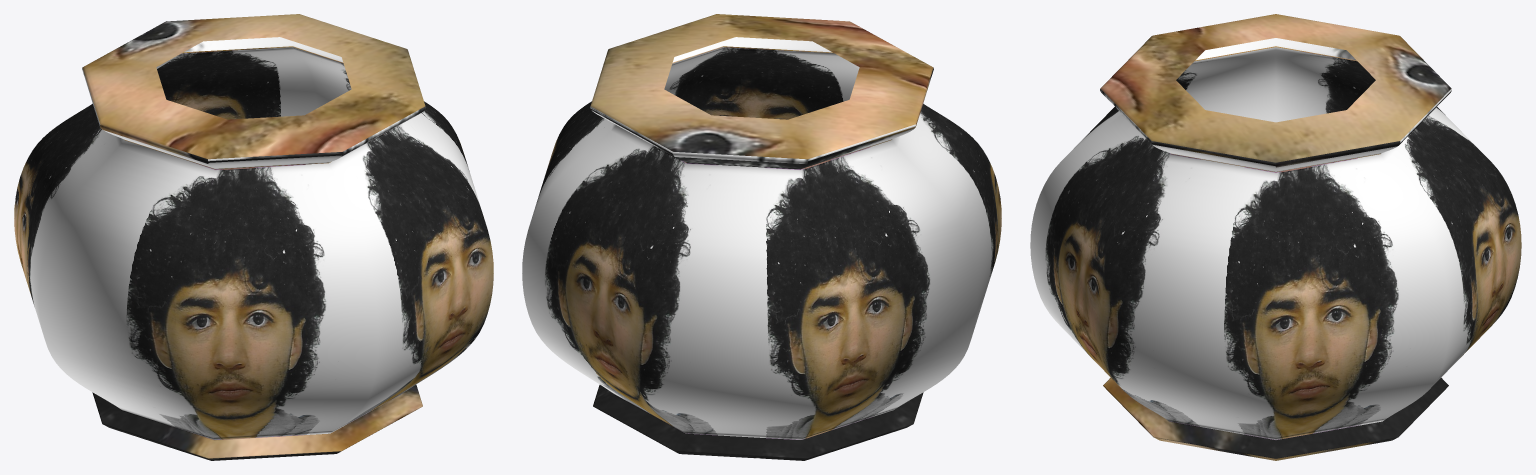
Rendered from vase-1-main.glb.
3 views of the same model, side by side, from view 1: azimuth 30°, elevation 25°; view 2: azimuth 150°, elevation 25°; view 3: azimuth 270°, elevation 25° (orthographic).
Visible parts, largest first — view 1: vase-base; view 2: vase-base; view 3: vase-base.
Part boxes in pixels (left/top/right/bottom): vase-base: left=14, top=14, right=493, bottom=460; vase-base: left=522, top=14, right=1001, bottom=460; vase-base: left=1030, top=14, right=1521, bottom=460.
Size of the model in its own units: 13.58 by 9.6 by 13.58.
Materials: 1 (1 with a texture image).
